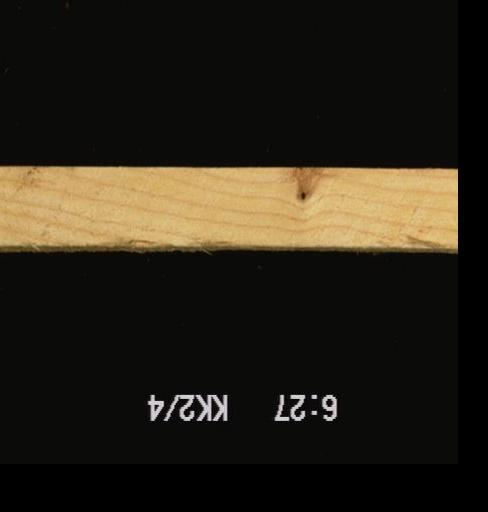small_knot: (299, 188, 307, 201)
split: (123, 238, 152, 244)
